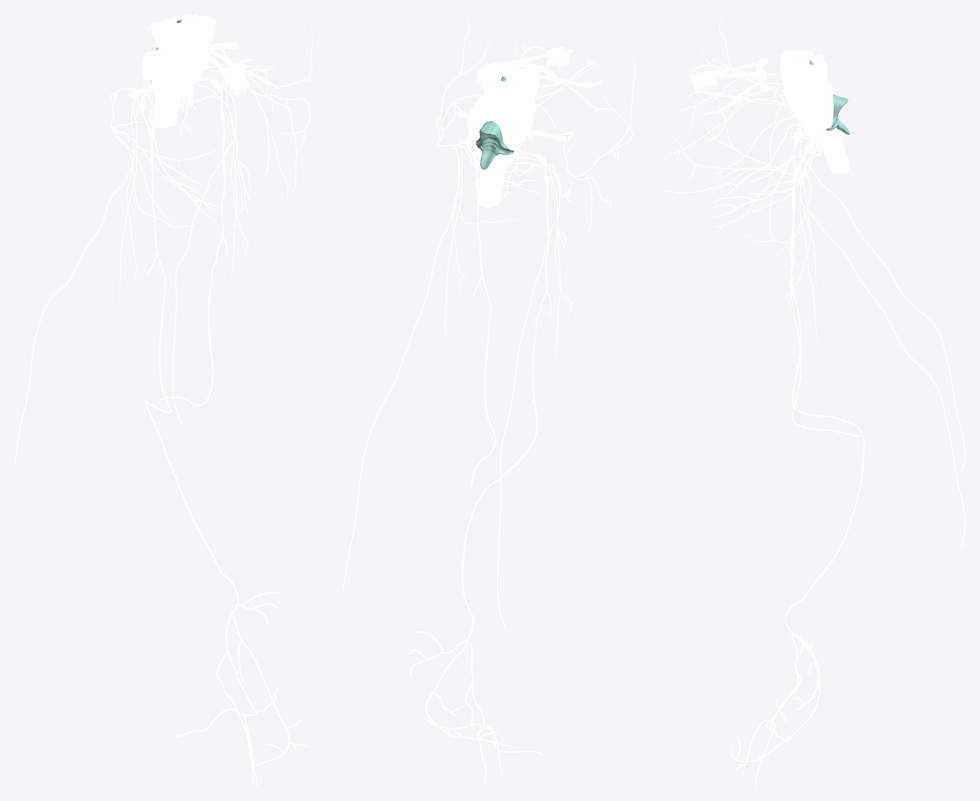
Rendered from brainstem_cranial_nerves.glb.
3 renders of one model, left to right at view 1: azimuth 30°, elevation 25°; view 2: azimuth 150°, elevation 25°; view 3: azimuth 270°, elevation 25°, orthographic. The views are drawn at different scales.
Parts seen in each view (by area): view 1: Vagus nerve (X).r, Pons.r, Facial nerve (VII).r, Vagus nerve (X).l, Facial nerve (VII).l, Accessory nerve (XI).r, Medulla oblongata.r, Accessory nerve (XI).l, Base of peduncle.r, Olfactory nerve (I).r; view 2: Vagus nerve (X).r, Pons.r, Accessory nerve (XI).r, Accessory nerve (XI).l, Medulla oblongata.r, Fourth ventricle, Vagus nerve (X).l, Facial nerve (VII).r, Pons.l, Midbrain.r, Facial nerve (VII).l, Midbrain.l (+1 smaller); view 3: Vagus nerve (X).r, Pons.l, Facial nerve (VII).l, Medulla oblongata.l, Accessory nerve (XI).l, Vagus nerve (X).l, Facial nerve (VII).r, Accessory nerve (XI).r, Olfactory nerve (I).l, Base of peduncle.l.
Part boxes in pixels (x1,y1,x2,y2): Vagus nerve (X).r: (139,84,307,786); Pons.r: (141,49,192,87); Facial nerve (VII).r: (110,65,232,230); Vagus nerve (X).l: (159,78,227,406); Facial nerve (VII).l: (205,24,313,203); Accessory nerve (XI).r: (14,93,156,464); Medulla oblongata.r: (152,80,183,128); Accessory nerve (XI).l: (172,78,250,424); Base of peduncle.r: (152,26,189,55); Olfactory nerve (I).r: (171,45,241,97); Vagus nerve (X).r: (408,149,551,786); Pons.r: (492,98,535,150); Accessory nerve (XI).r: (497,161,573,629); Accessory nerve (XI).l: (342,145,480,590); Medulla oblongata.r: (483,150,517,207); Fourth ventricle: (475,121,513,169); Vagus nerve (X).l: (465,137,525,487); Facial nerve (VII).r: (525,55,635,238); Pons.l: (467,93,496,141); Midbrain.r: (496,69,529,108); Facial nerve (VII).l: (436,14,553,207); Midbrain.l: (484,66,515,107); Vagus nerve (X).r: (731,125,864,786); Pons.l: (783,85,833,128); Facial nerve (VII).l: (664,91,815,240); Medulla oblongata.l: (802,123,850,173); Accessory nerve (XI).l: (778,138,965,548); Vagus nerve (X).l: (748,128,860,437); Facial nerve (VII).r: (665,14,795,184); Accessory nerve (XI).r: (777,131,965,473); Olfactory nerve (I).l: (691,66,768,92); Base of peduncle.l: (780,64,813,93).
Size of the model in its own units: 0.1354 by 0.5195 by 0.199.
